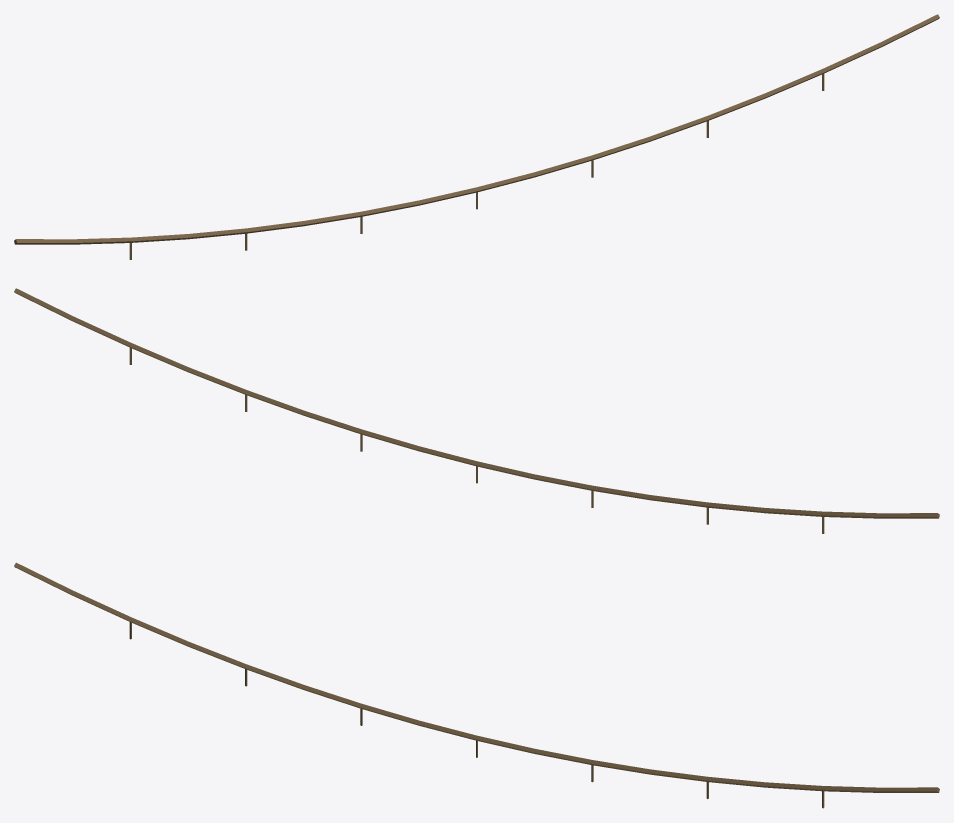
Rendered from JP_Prop_LanternRope_8m_A.glb.
3 views of the same model, one above another, from view 1: azimuth 30°, elevation 25°; view 2: azimuth 150°, elevation 25°; view 3: azimuth 330°, elevation 25° (orthographic).
Parts seen in each view (by area): view 1: JP_Prop_LanternRope_8m_A; view 2: JP_Prop_LanternRope_8m_A; view 3: JP_Prop_LanternRope_8m_A.
Boxes of the visible parts, box(x1,y1,x2,y2) form: JP_Prop_LanternRope_8m_A: box(14, 14, 939, 259); JP_Prop_LanternRope_8m_A: box(14, 288, 939, 533); JP_Prop_LanternRope_8m_A: box(14, 562, 939, 808).
Bounding box in the file's own units: 8.01 × 0.684 × 0.044.
1 material, 1 textured.
